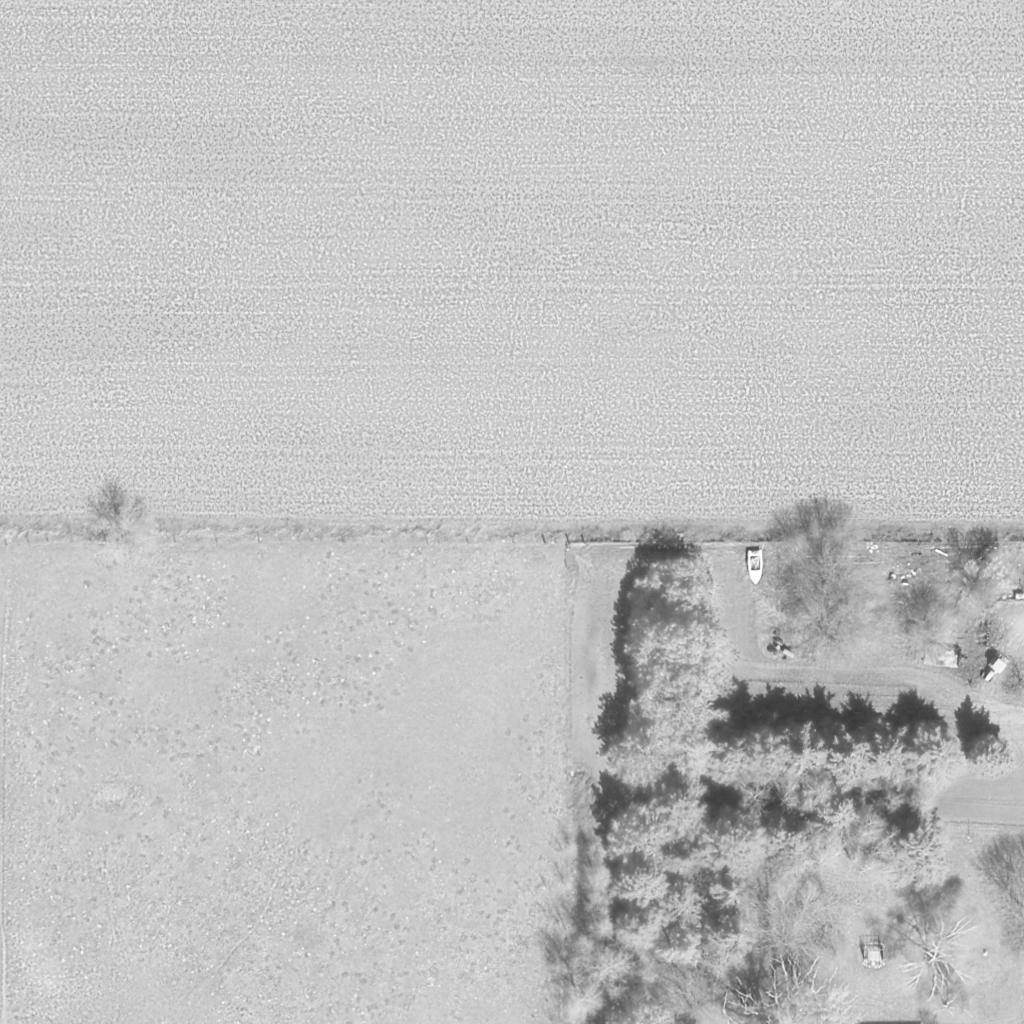vehicle: (979, 653, 1013, 689), (745, 549, 765, 587)
